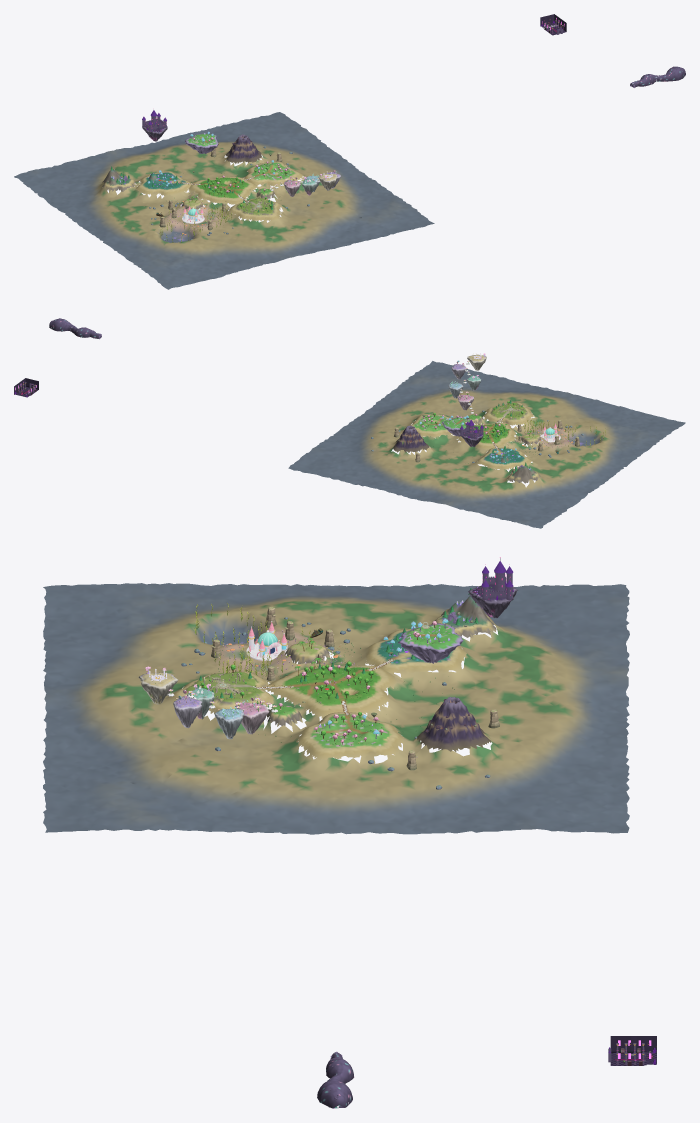
The model's file is world3.glb.
3 views of the same model, one above another, from view 1: azimuth 30°, elevation 25°; view 2: azimuth 150°, elevation 25°; view 3: azimuth 270°, elevation 25° (orthographic). The views are drawn at different scales.
Parts seen in each view (by area): view 1: Ground_Sea, Ground_Meadow, Ground_Cove, Ground_Glade, Ground_Ruins, Ground_Peak, Ground_CaveWalls, Ground_Sky, Ground_Echo; view 2: Ground_Sea, Ground_Cove, Ground_Ruins, Ground_Meadow, Ground_Glade, Ground_Peak, Ground_CaveWalls, Ground_Echo; view 3: Ground_Sea, Ground_Meadow, Ground_Glade, Ground_Peak, Ground_Cove, Ground_Ruins, Ground_Sky, Ground_CaveWalls, Ground_Echo, MermaidPalace.002.
Boxes of the visible parts, bbox=[...] form: Ground_Sea: bbox=[14, 112, 434, 289]; Ground_Meadow: bbox=[189, 176, 257, 204]; Ground_Cove: bbox=[136, 171, 191, 196]; Ground_Glade: bbox=[244, 161, 303, 186]; Ground_Ruins: bbox=[228, 198, 281, 221]; Ground_Peak: bbox=[225, 134, 262, 163]; Ground_CaveWalls: bbox=[630, 66, 685, 87]; Ground_Sky: bbox=[185, 133, 218, 153]; Ground_Echo: bbox=[102, 170, 136, 191]; Ground_Sea: bbox=[288, 361, 685, 528]; Ground_Cove: bbox=[476, 447, 531, 469]; Ground_Ruins: bbox=[483, 402, 533, 425]; Ground_Meadow: bbox=[455, 422, 515, 449]; Ground_Glade: bbox=[410, 414, 452, 437]; Ground_Peak: bbox=[393, 425, 429, 452]; Ground_CaveWalls: bbox=[49, 318, 101, 338]; Ground_Echo: bbox=[507, 466, 541, 483]; Ground_Sea: bbox=[43, 583, 629, 834]; Ground_Meadow: bbox=[267, 664, 396, 718]; Ground_Glade: bbox=[296, 712, 404, 760]; Ground_Peak: bbox=[417, 697, 490, 751]; Ground_Cove: bbox=[365, 629, 466, 674]; Ground_Ruins: bbox=[169, 671, 273, 713]; Ground_Sky: bbox=[398, 623, 463, 663]; Ground_CaveWalls: bbox=[317, 1052, 354, 1108]; Ground_Echo: bbox=[435, 596, 496, 638]; MermaidPalace.002: bbox=[246, 621, 287, 660].
Bounding box in the file's own units: 759 × 84.09 × 358.
Materials: 75 (72 with a texture image).
